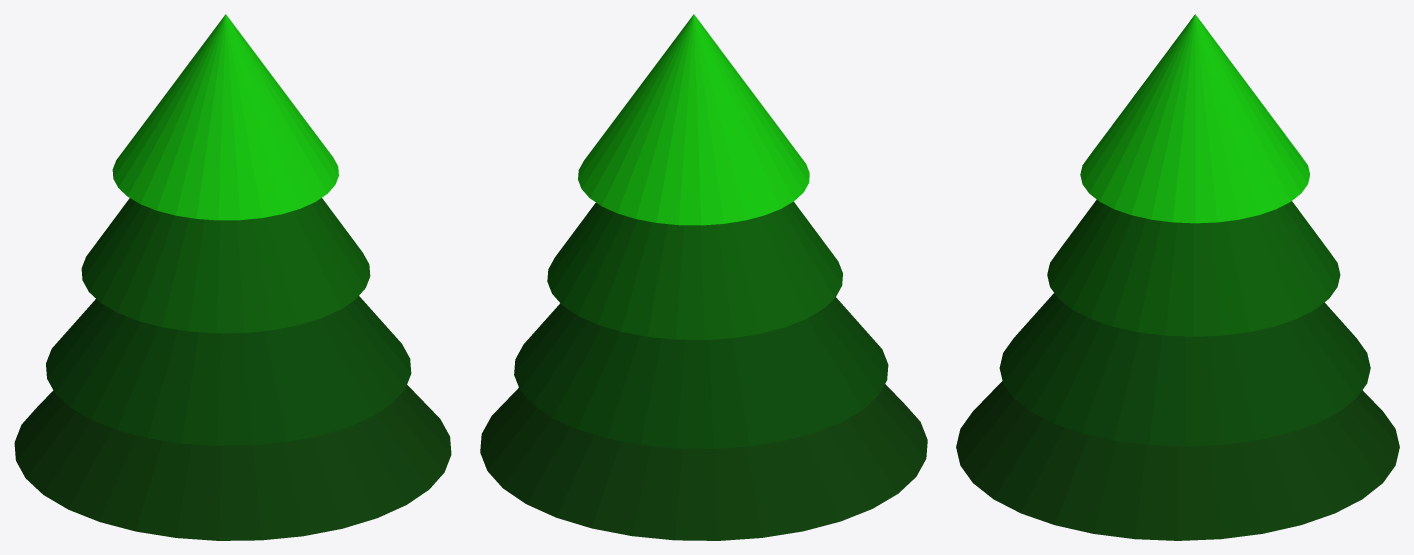
The model's file is pine.obj.
3 views of the same model, side by side, from view 1: azimuth 30°, elevation 25°; view 2: azimuth 150°, elevation 25°; view 3: azimuth 270°, elevation 25° (orthographic). The views are drawn at different scales.
Visible parts, largest first — view 1: Cone, Cone.001, Cone.002, Cone.003; view 2: Cone, Cone.001, Cone.002, Cone.003; view 3: Cone, Cone.001, Cone.002, Cone.003.
Part boxes in pixels (<box>): Cone: <box>14,385,451,540</box>; Cone.001: <box>46,296,411,445</box>; Cone.002: <box>81,198,370,333</box>; Cone.003: <box>112,14,338,220</box>; Cone: <box>480,384,927,540</box>; Cone.001: <box>514,297,888,448</box>; Cone.002: <box>547,201,842,339</box>; Cone.003: <box>578,14,809,225</box>; Cone: <box>956,381,1399,540</box>; Cone.001: <box>999,293,1370,446</box>; Cone.002: <box>1047,199,1340,336</box>; Cone.003: <box>1080,14,1309,223</box>.
Size of the model in its own units: 2.75 by 3.46 by 2.75.
